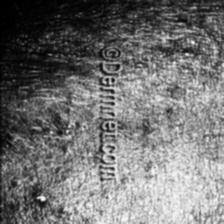Non-Cancerous Skin Condition: (132, 44, 212, 88), (46, 124, 72, 136), (33, 193, 48, 204)
